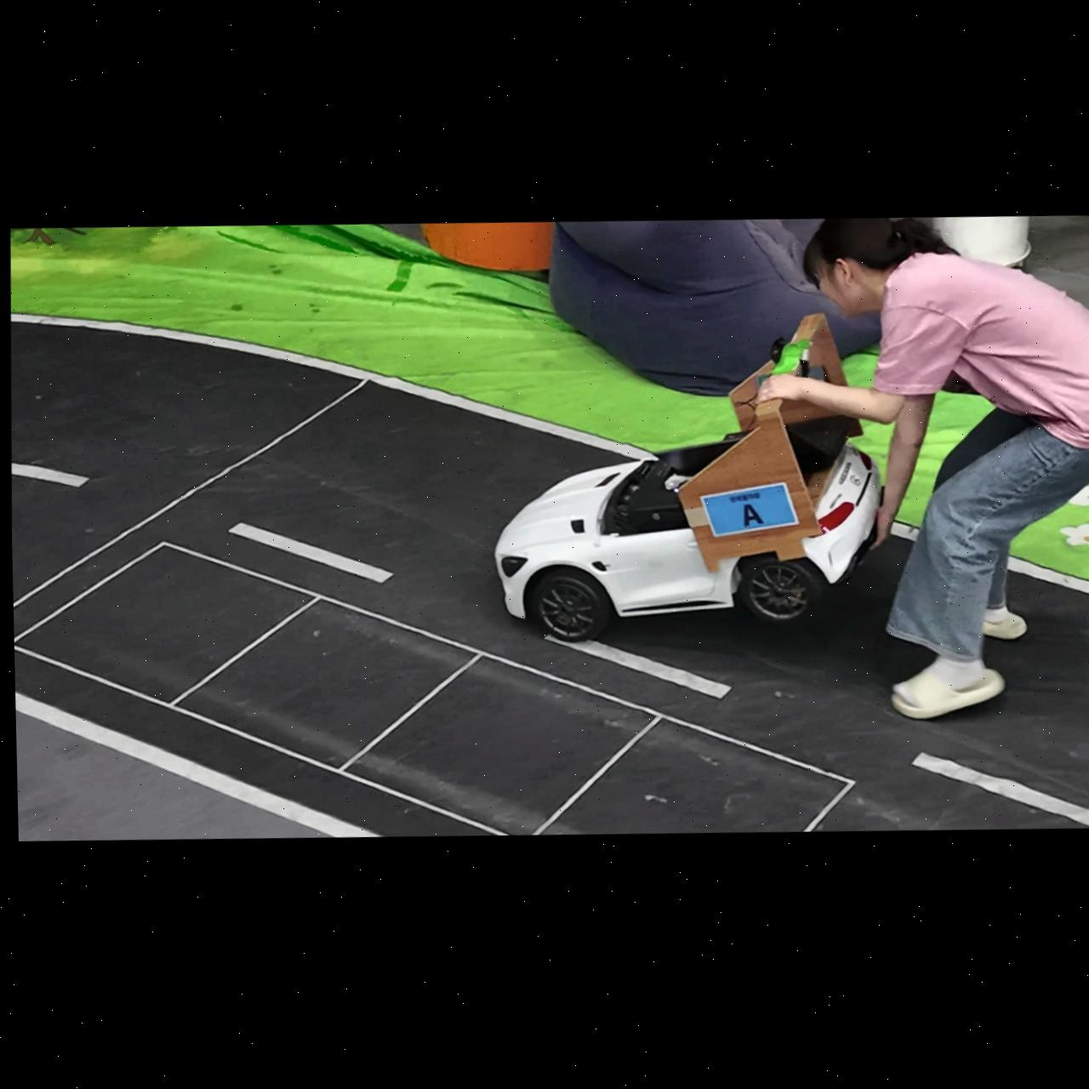broken_line: (912, 753, 1089, 827), (544, 636, 731, 699), (229, 524, 392, 582), (12, 463, 89, 487)
